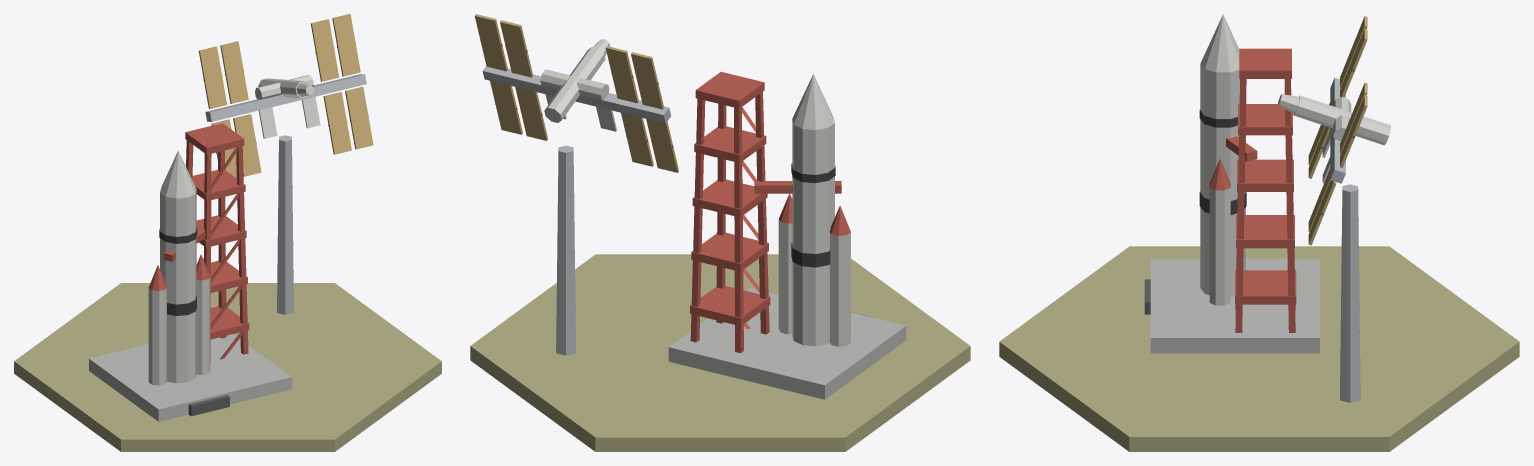
File: international-space-station.glb
3 renders of one model, left to right at view 1: azimuth 30°, elevation 25°; view 2: azimuth 150°, elevation 25°; view 3: azimuth 270°, elevation 25°, orthographic. The views are drawn at different scales.
Visible parts, largest first — view 1: LOD0; view 2: LOD0; view 3: LOD0.
Part boxes in pixels (box(x1,y1,x2,y2)): LOD0: box(14, 14, 441, 451); LOD0: box(470, 14, 970, 451); LOD0: box(999, 14, 1519, 451).
Size of what is drawn, in the model's own units: 1.52 by 1.28 by 1.72.
